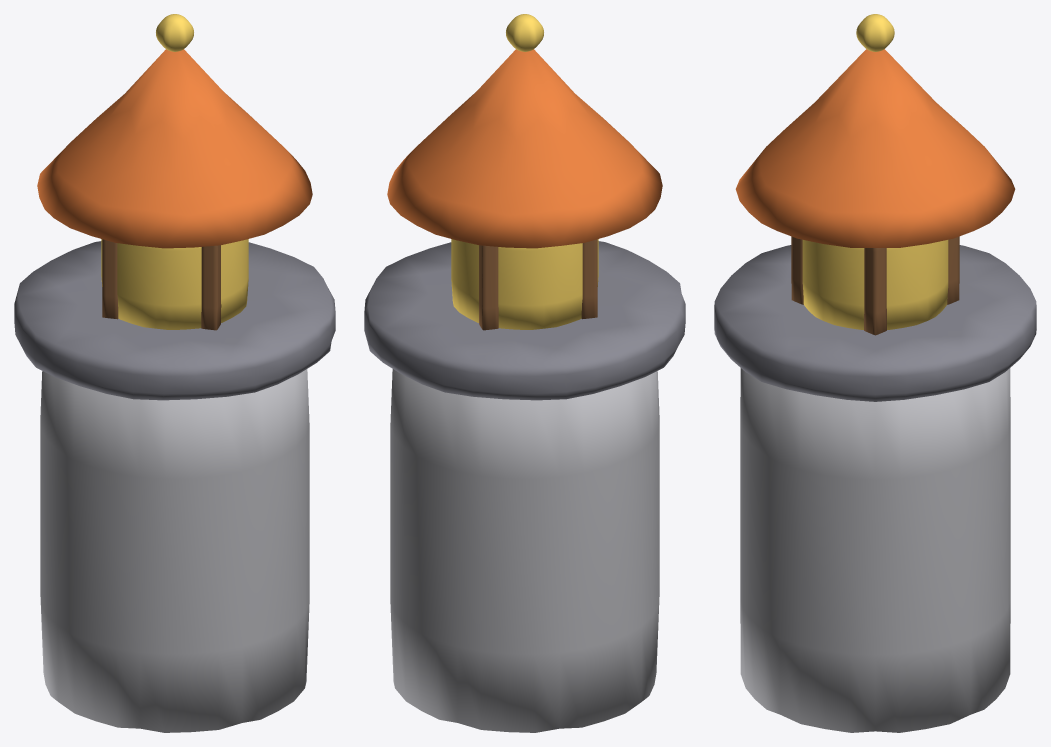
File: Tower.fbx
3 views of the same model, side by side, from view 1: azimuth 30°, elevation 25°; view 2: azimuth 150°, elevation 25°; view 3: azimuth 270°, elevation 25° (orthographic).
Visible parts, largest first — view 1: Tower; view 2: Tower; view 3: Tower.
Boxes of the visible parts, x1,y1,x2,y2 form: Tower: (14, 14, 335, 732); Tower: (364, 14, 685, 732); Tower: (714, 14, 1036, 732).
Bounding box in the file's own units: 1.34 × 3.06 × 1.34.
1 material, 1 textured.
